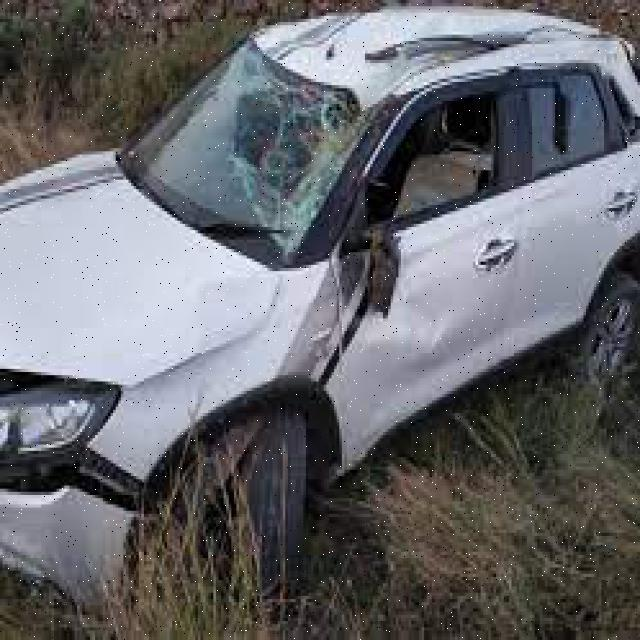Front-Windscreen-Damage: (131, 50, 368, 286)
Headlight-Damage: (3, 347, 124, 508)
doorouter-dent: (345, 240, 525, 480)
roof-dent: (257, 3, 638, 94)
